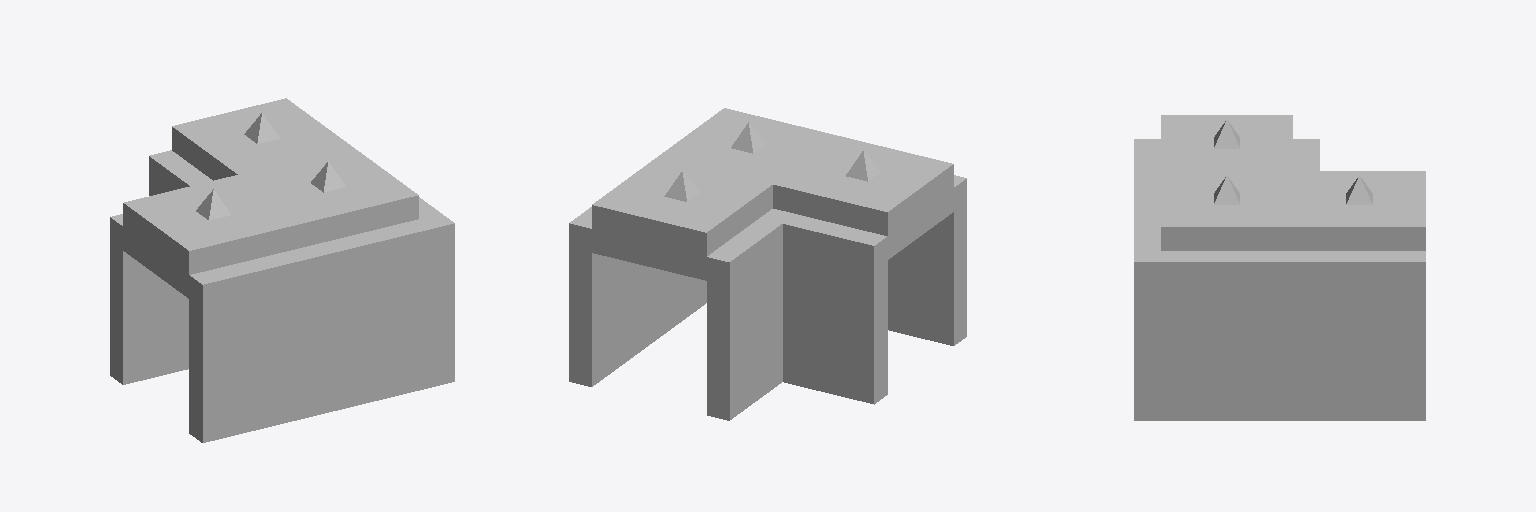
The model's file is tunnel-part1.obj.
3 views of the same model, side by side, from view 1: azimuth 30°, elevation 25°; view 2: azimuth 150°, elevation 25°; view 3: azimuth 270°, elevation 25° (orthographic).
Parts seen in each view (by area): view 1: Cube.014; view 2: Cube.014; view 3: Cube.014.
Boxes of the visible parts, <box> form: Cube.014: <box>110,98,454,442</box>; Cube.014: <box>569,108,966,420</box>; Cube.014: <box>1134,115,1425,420</box>.
Size of the model in its own units: 3.3 by 2.58 by 3.3.